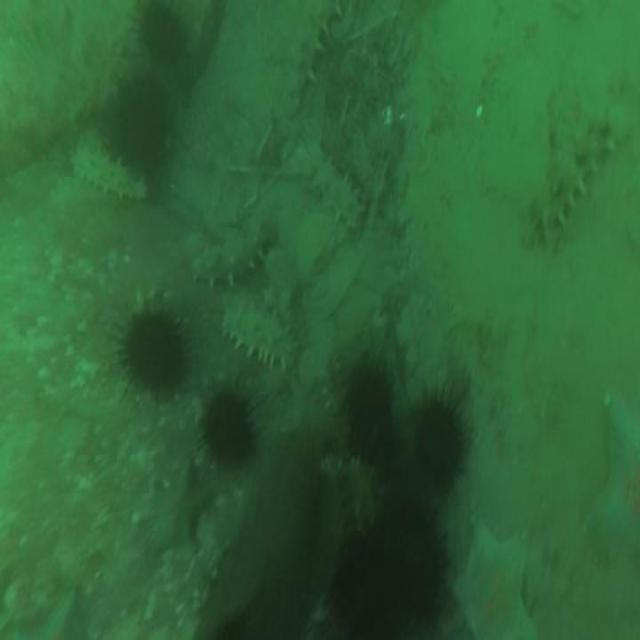echinus: (331, 502, 441, 640), (534, 129, 609, 234), (280, 0, 340, 115), (224, 300, 295, 372), (72, 142, 148, 204), (121, 321, 187, 392), (348, 365, 394, 466), (110, 79, 164, 163), (413, 396, 463, 486), (203, 393, 254, 468), (191, 231, 256, 289), (313, 160, 362, 232), (140, 2, 184, 60)
starfish: (455, 523, 534, 640), (585, 395, 640, 552)
